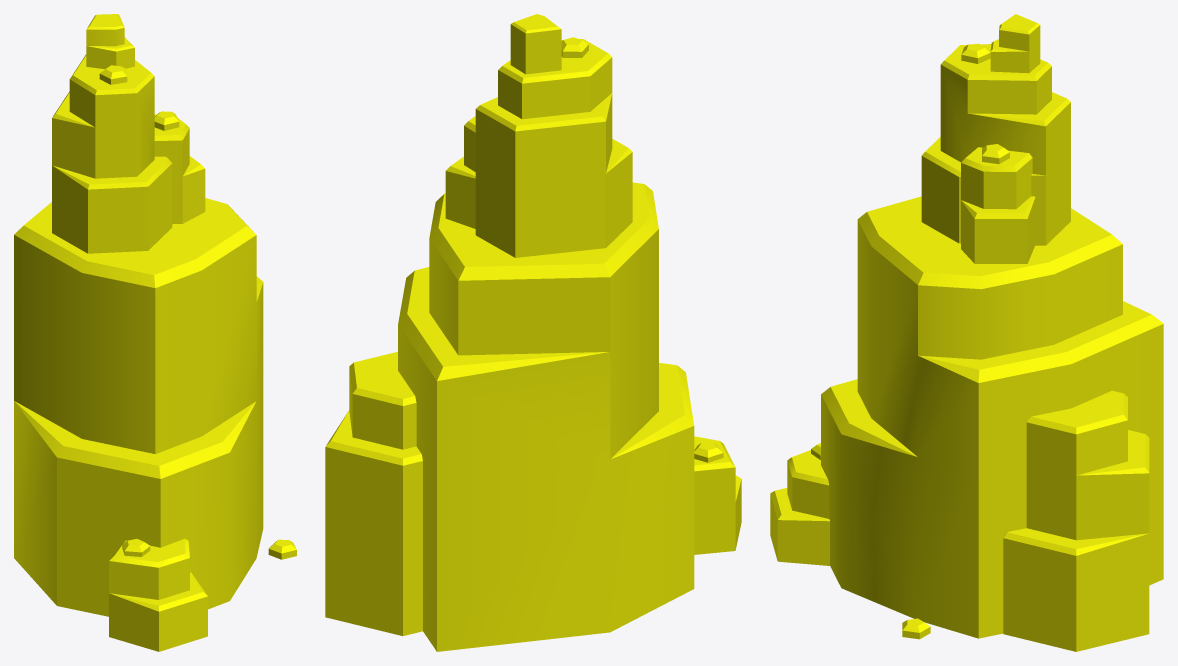
File: kaykit-rock-1-q-color-1.glb
The picture shows the model from 3 angles, left to right: view 1: azimuth 30°, elevation 25°; view 2: azimuth 150°, elevation 25°; view 3: azimuth 270°, elevation 25°; orthographic projection. The views are drawn at different scales.
Visible parts, largest first — view 1: Rock_1_Q_Color1; view 2: Rock_1_Q_Color1; view 3: Rock_1_Q_Color1.
Boxes of the visible parts, x1=… form: Rock_1_Q_Color1: x1=14, y1=14, x2=296, y2=651; Rock_1_Q_Color1: x1=325, y1=14, x2=741, y2=651; Rock_1_Q_Color1: x1=770, y1=14, x2=1163, y2=651.
Bounding box in the file's own units: 2.22 × 4.28 × 2.8.
